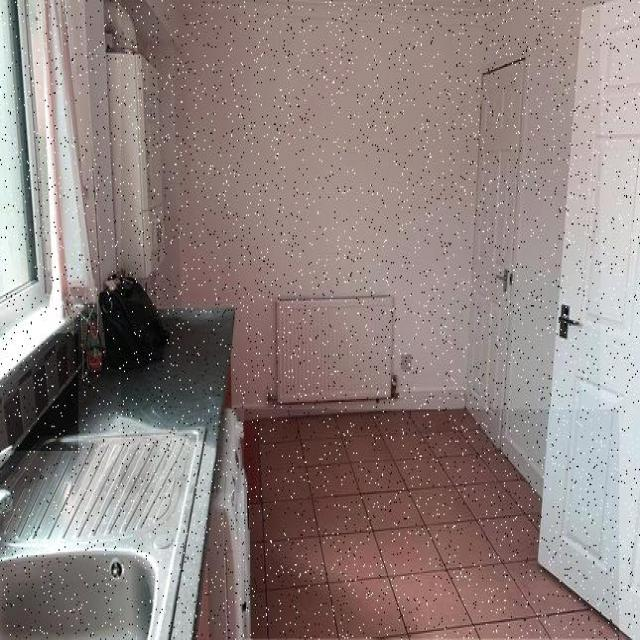Wall: (122, 0, 600, 493), (245, 410, 619, 639), (0, 334, 78, 451), (86, 0, 116, 287)
